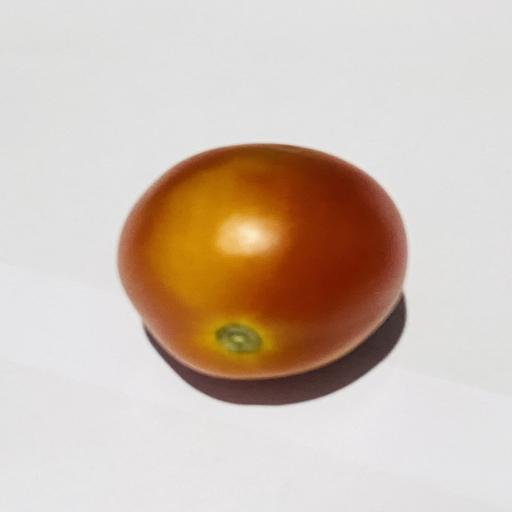ripe: (118, 144, 407, 379)
